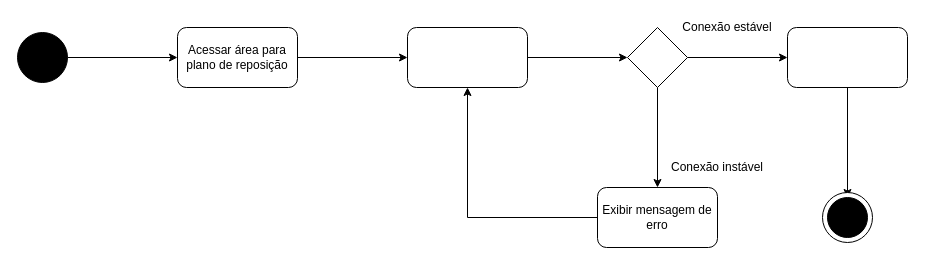
The diagram is 925 pixels wide and 265 high, and some of its shapes have lost their labels. Each missing label, with the centre of its shape:
"Enviar formulário" belongs at point (847, 57).
"Preencher formulário com planos de reposição de aula" belongs at point (467, 57).
